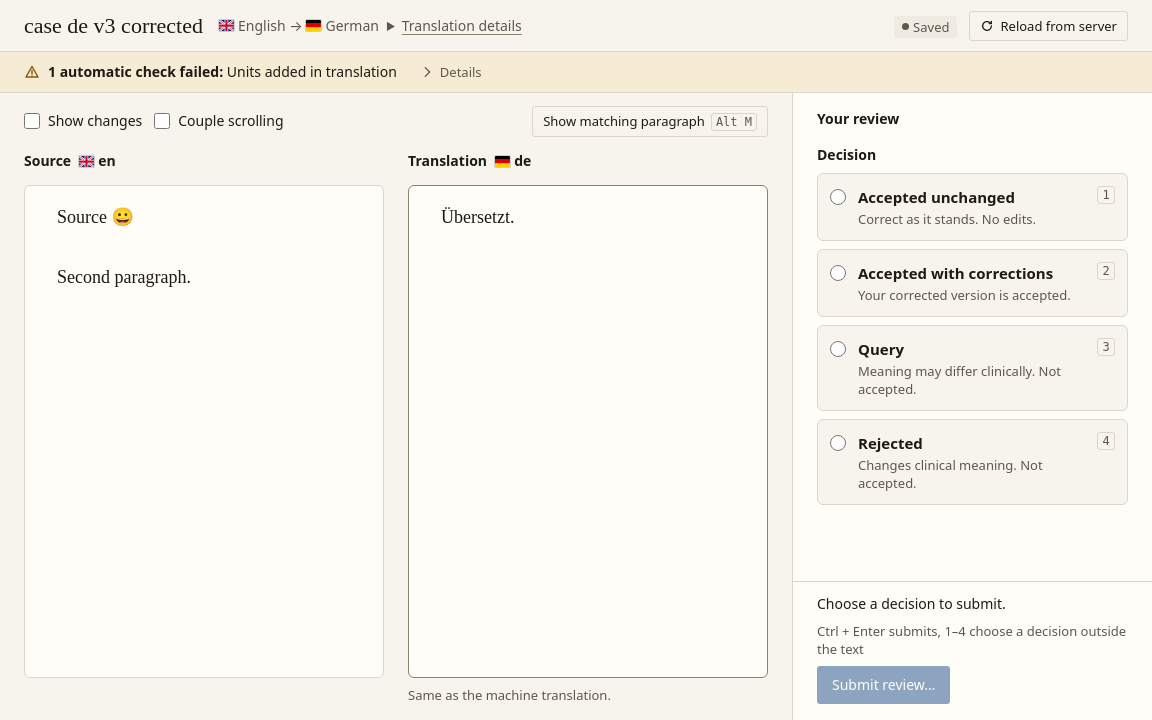
Scenario: opens the exact source, inherited run and correction baseline with no default decision or initial save
Expected: the text box named "Translation (de)" holds "Übersetzt.", [409,186,767,677]
Expected: the element named "Source (en)" shows "Second paragraph.", [57,267,191,287]
Click the button "Details": (451, 72) [409,57,493,87]
Wait 1600 ms
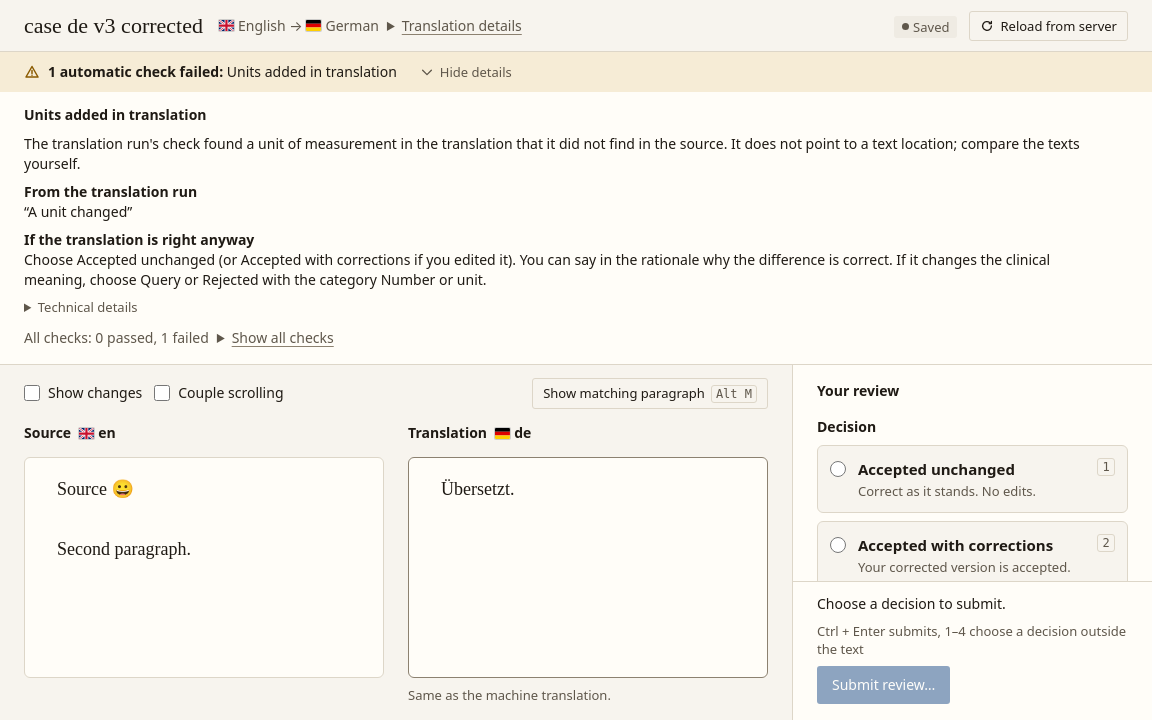
Expected: the text "Choose a decision to submit." is shown, [817,594,1006,613]
Result: the text "“A unit changed”" is shown 2 times
